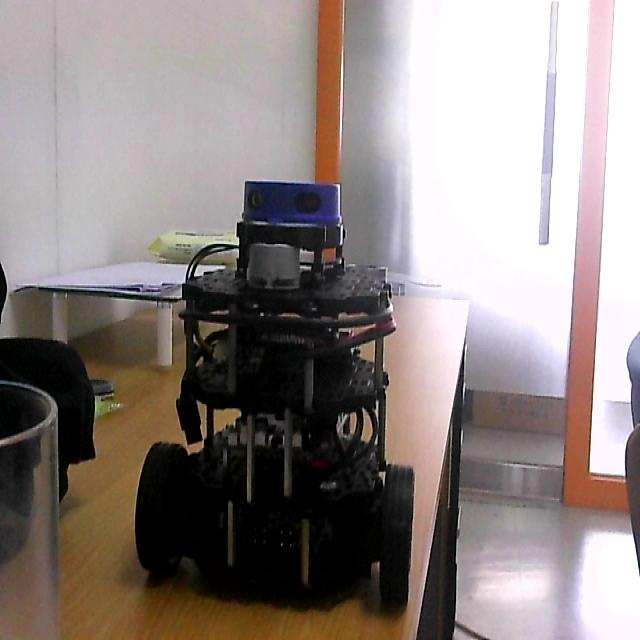turtle: (132, 178, 418, 622)
